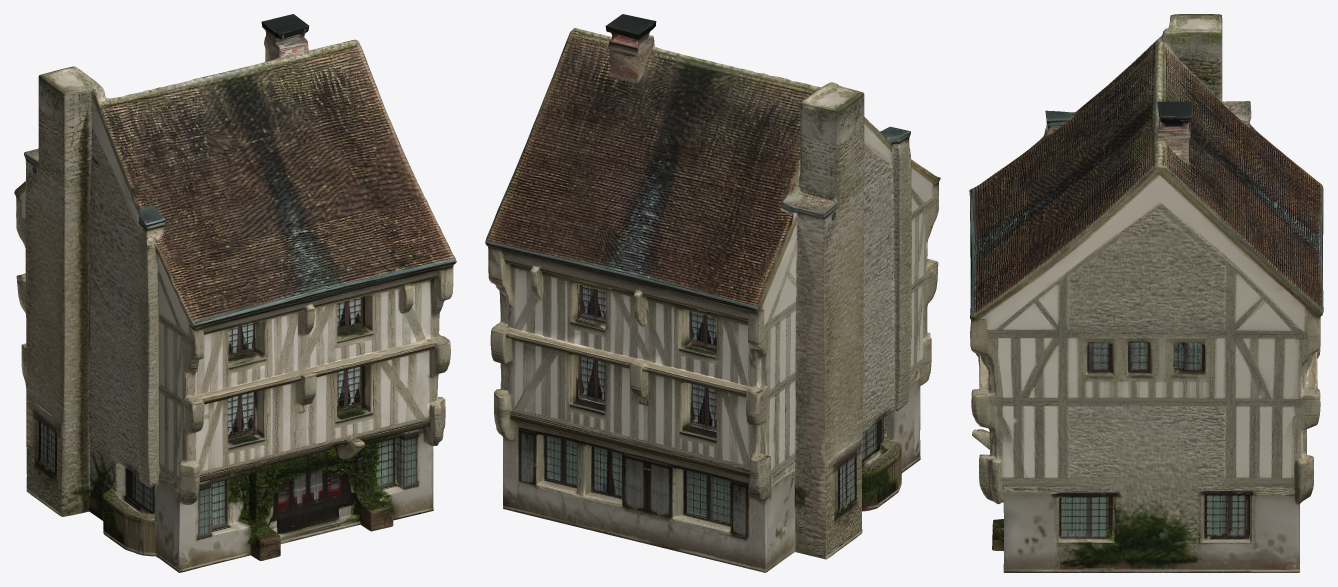
File: fr_house_2.glb
The picture shows the model from 3 angles, left to right: view 1: azimuth 30°, elevation 25°; view 2: azimuth 150°, elevation 25°; view 3: azimuth 270°, elevation 25°; orthographic projection. The views are drawn at different scales.
Bounding box in the file's own units: 1.39 × 2 × 1.48.
Materials: 1 (1 with a texture image).
